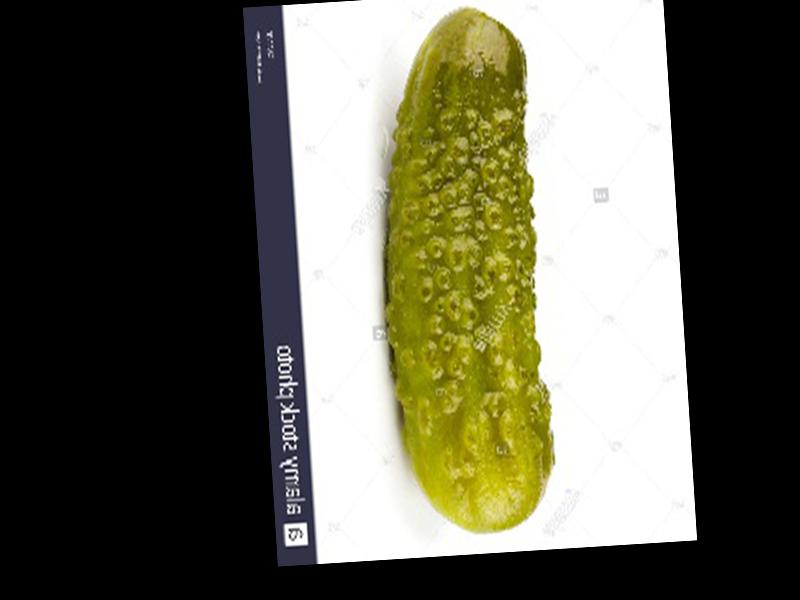Cucumber: (367, 1, 558, 538)
